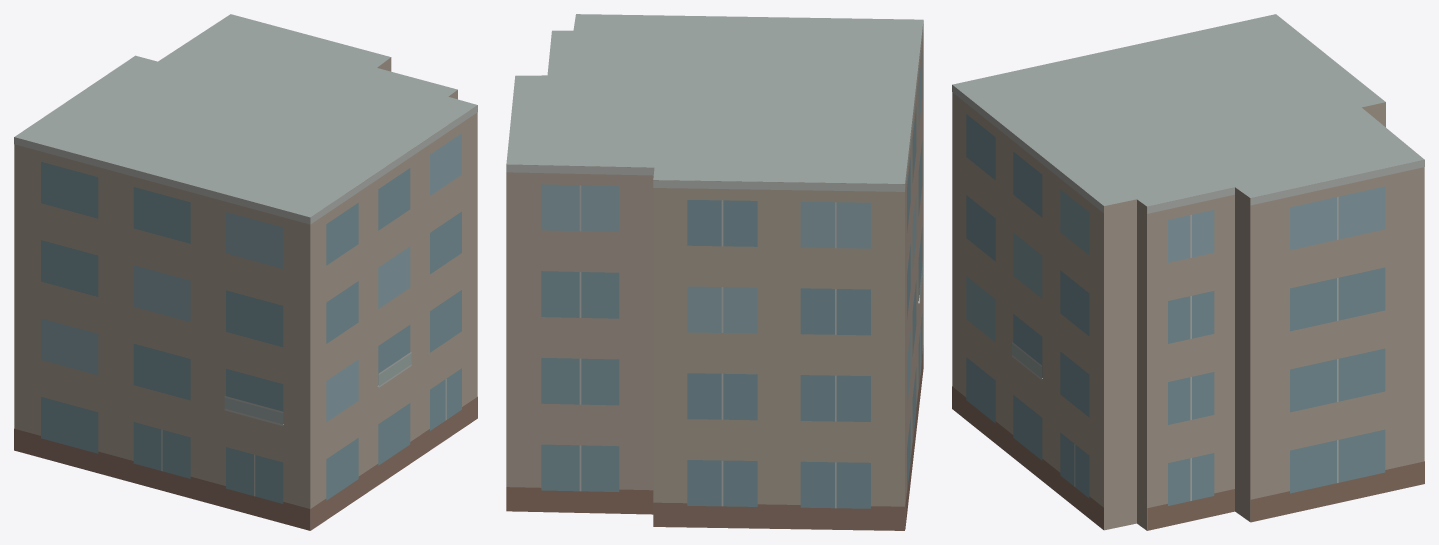
The model's file is survey-upis-32946025.glb.
3 renders of one model, left to right at view 1: azimuth 30°, elevation 25°; view 2: azimuth 150°, elevation 25°; view 3: azimuth 270°, elevation 25°, orthographic. The views are drawn at different scales.
Parts seen in each view (by area): view 1: survey-upis-32946025.tmp; view 2: survey-upis-32946025.tmp; view 3: survey-upis-32946025.tmp.
Part boxes in pixels (bbox=[...]): survey-upis-32946025.tmp: bbox=[14, 14, 477, 530]; survey-upis-32946025.tmp: bbox=[506, 14, 923, 530]; survey-upis-32946025.tmp: bbox=[952, 14, 1424, 530].
Bounding box in the file's own units: 13.64 × 10.7 × 14.14.
